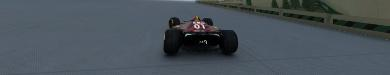Car: (162, 15, 238, 54)
curve: (0, 0, 389, 74)
obstacles-Borders: (196, 0, 389, 41)
